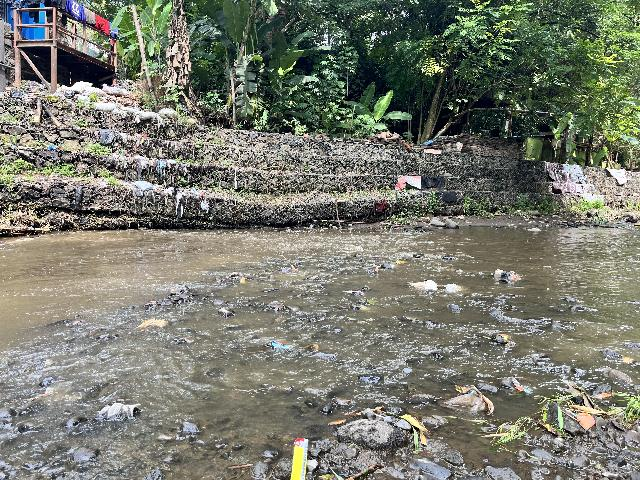Sampah Anorganik: (446, 381, 496, 416), (288, 432, 309, 480), (267, 338, 298, 352), (494, 268, 521, 282), (407, 280, 439, 291), (341, 286, 368, 299), (511, 374, 529, 393), (444, 283, 463, 294), (311, 273, 320, 281)
Sampah Organik: (537, 387, 640, 426), (333, 412, 428, 449), (486, 421, 525, 442), (297, 341, 325, 355), (135, 318, 167, 329), (140, 298, 160, 308), (360, 301, 376, 310), (272, 304, 285, 312), (499, 335, 512, 343), (288, 265, 299, 272), (622, 356, 633, 363), (394, 260, 406, 265), (373, 266, 379, 273), (240, 276, 245, 283)
